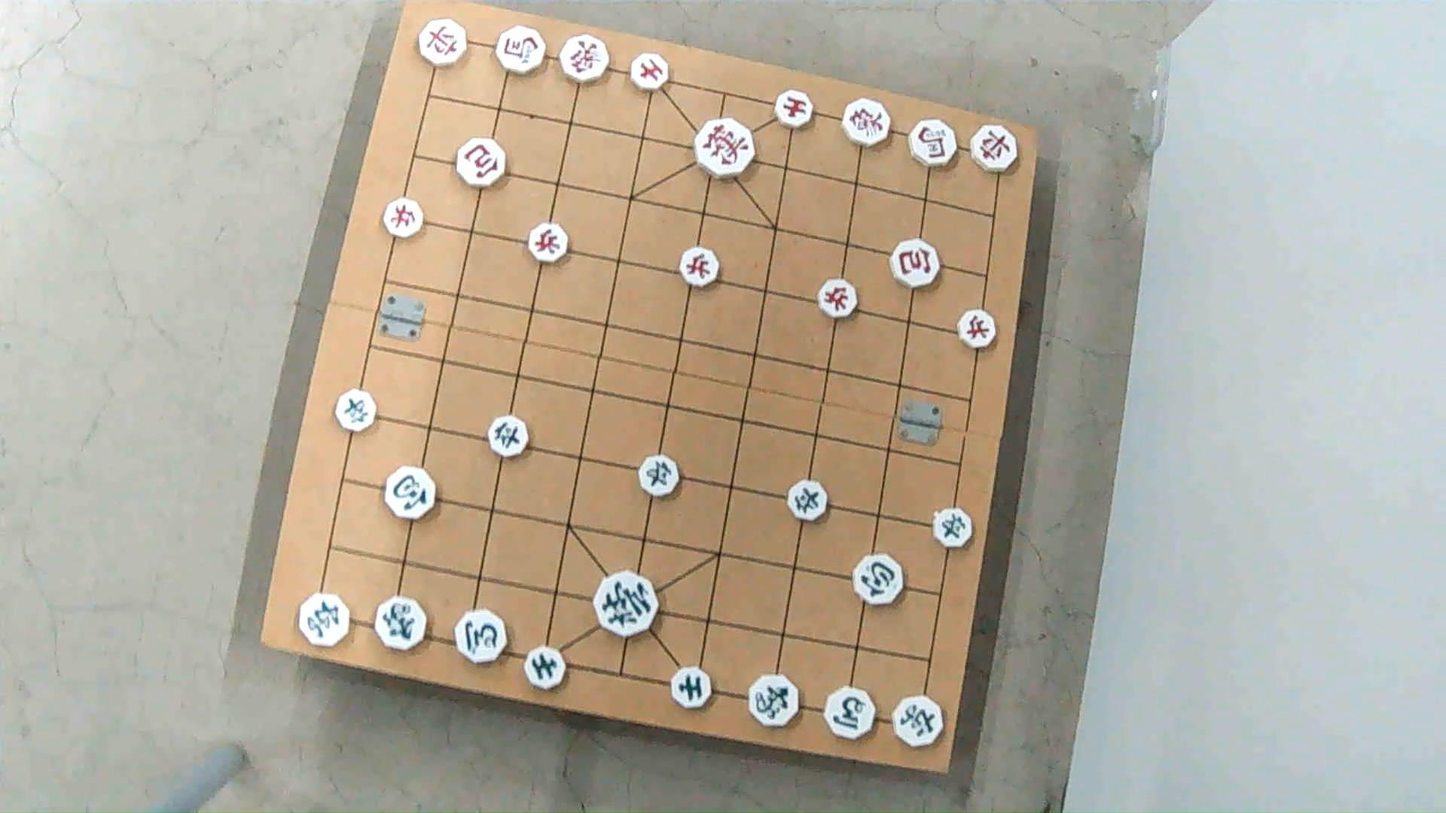cha_green: (894, 693, 943, 750), (299, 594, 349, 645)
cha_red: (969, 124, 1019, 172), (416, 18, 468, 62)
jol_green: (635, 455, 679, 495), (485, 418, 529, 458), (333, 390, 378, 429), (787, 481, 830, 520), (932, 508, 975, 545)
jol_red: (526, 224, 569, 263), (380, 200, 424, 238), (956, 310, 999, 347), (680, 249, 721, 287), (815, 282, 856, 319)
ma_green: (456, 609, 509, 665), (824, 687, 877, 739)
ma_red: (493, 27, 547, 73), (908, 120, 956, 166)
po_green: (383, 468, 438, 519), (854, 556, 907, 605)
po_red: (892, 241, 942, 288), (455, 140, 505, 184)
sa_green: (670, 668, 713, 708), (524, 649, 566, 689)
sa_red: (773, 91, 816, 127), (629, 56, 670, 91)
sang_green: (749, 672, 799, 729), (376, 599, 429, 650)
sang_red: (559, 35, 612, 82), (841, 98, 891, 145)
wang_green: (593, 574, 663, 638)
wang_red: (694, 120, 754, 175)
